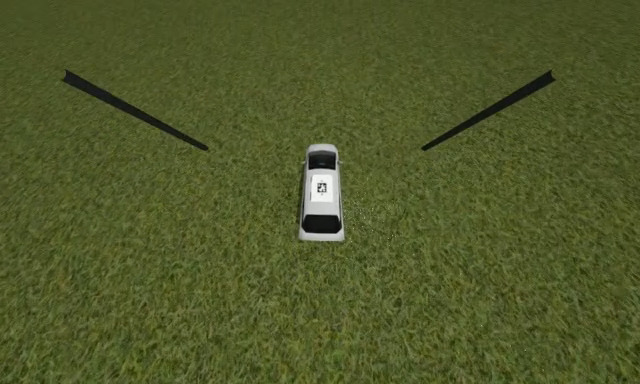Car: (299, 143, 346, 244)
Landing Pad: (311, 176, 334, 202)
